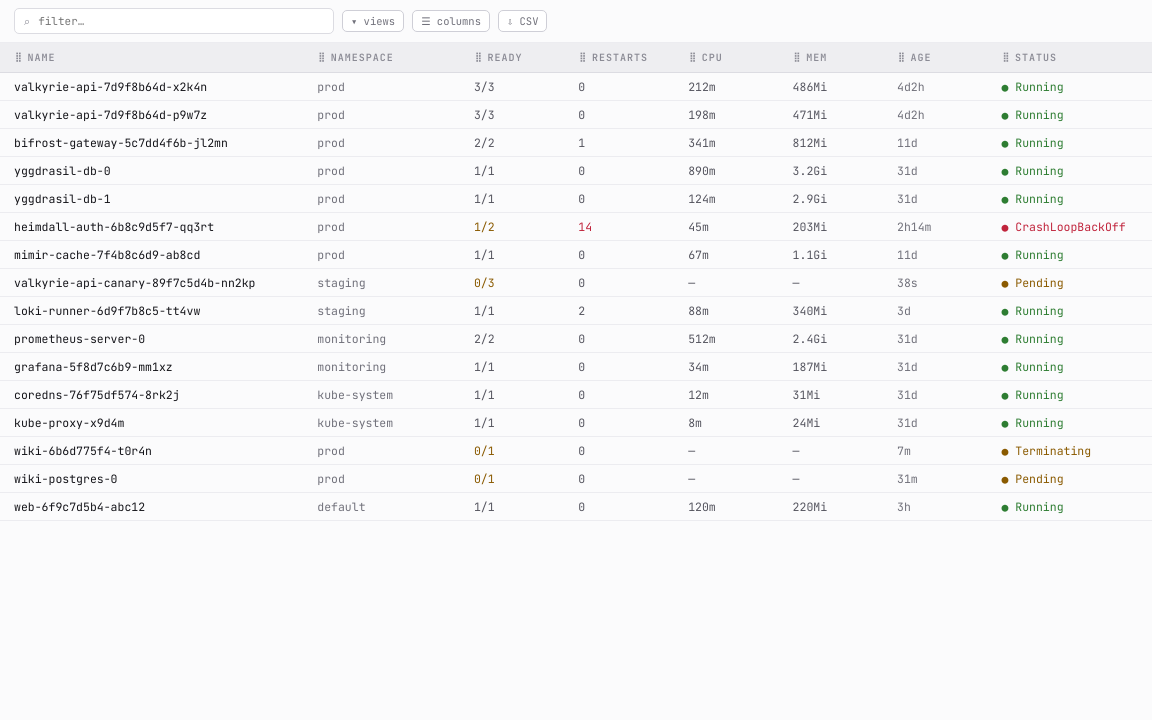
column configuration (B87) › hiding NAMESPACE removes the column; reopening shows it unchecked
The width and height of the screenshot is (1152, 720).
Click the button "☰ columns": point(451, 21) [412,10,490,32]
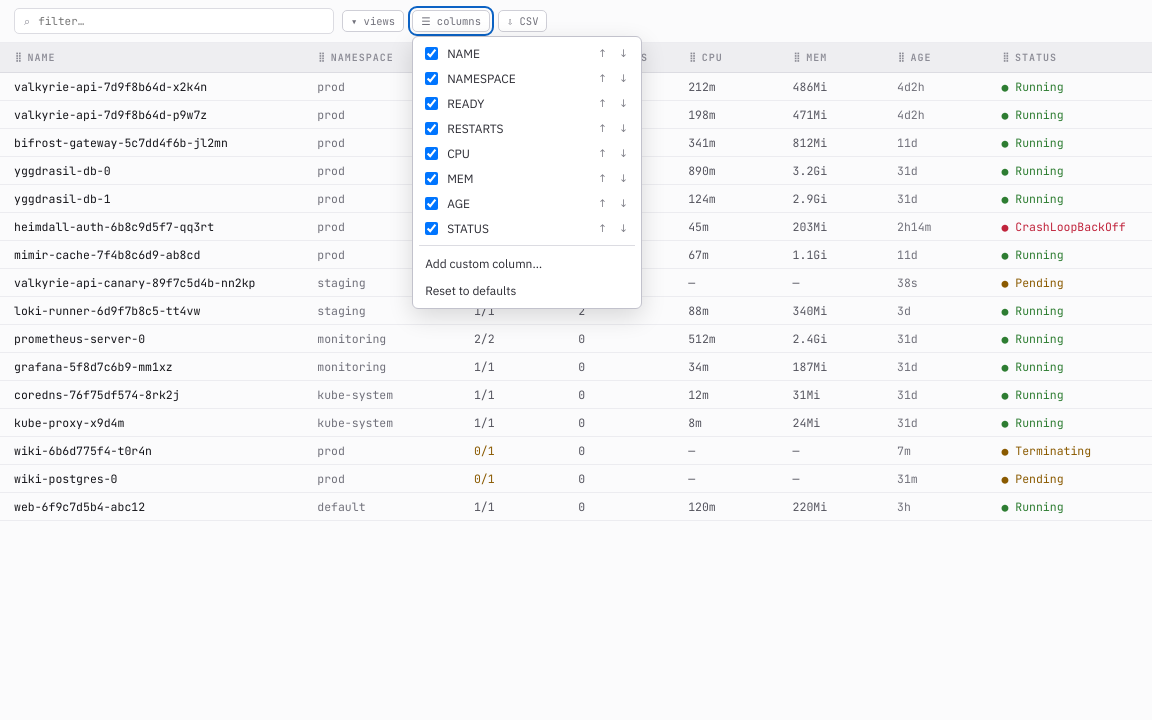
expect the checkbox labelled "NAMESPACE" is checked: met
Click the checkbox labelled "NAMESPACE": point(432, 78) [425,72,438,85]
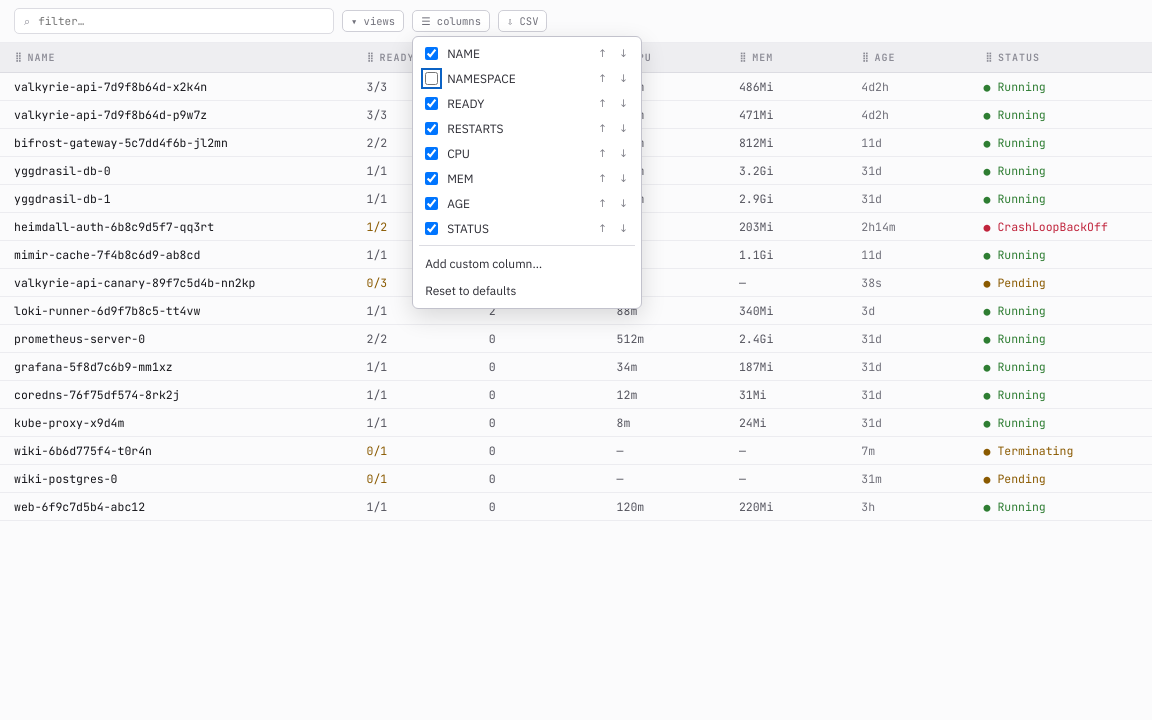
Click the button "☰ columns": point(451, 21) [412,10,490,32]
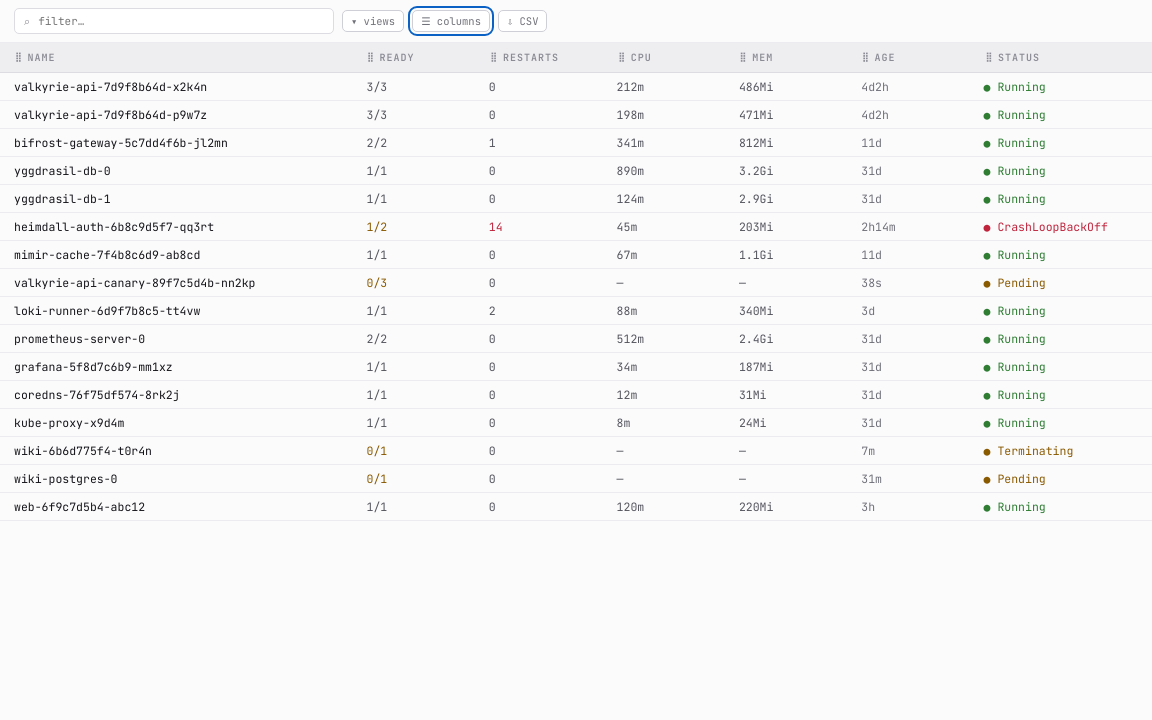
expect the text "NAMESPACE" is gone: met
Click the button "☰ columns": point(451, 21) [412,10,490,32]
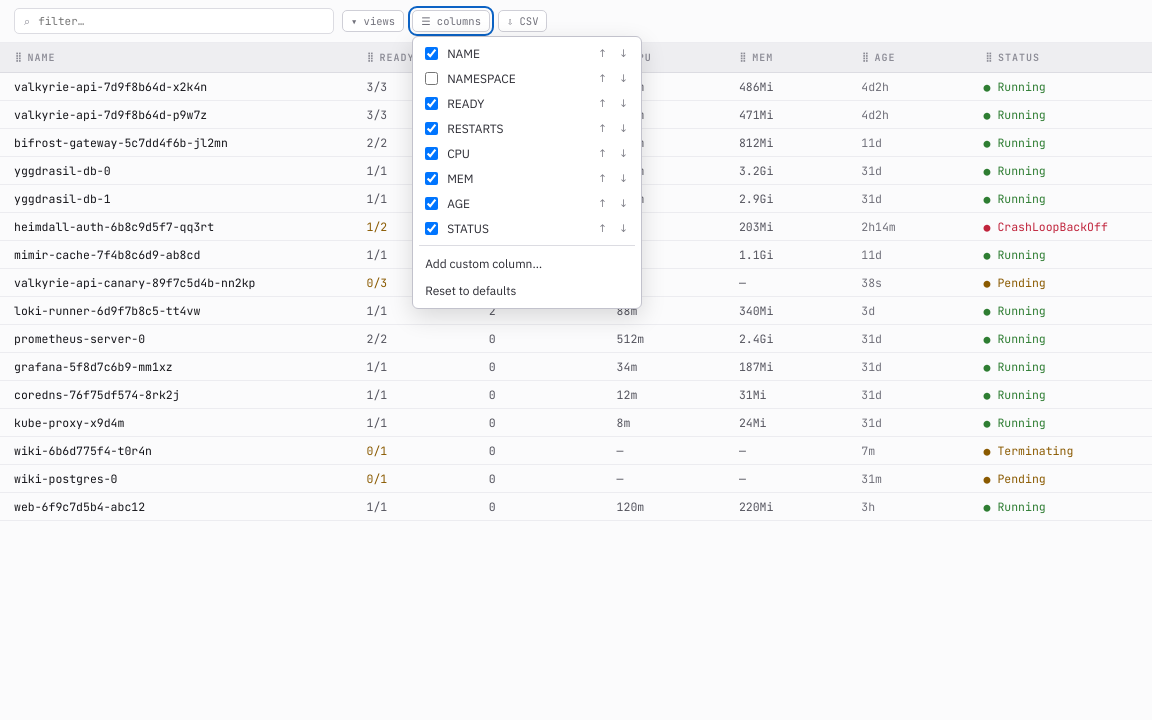
expect the checkbox labelled "NAMESPACE" is not checked: met, box [425,72,438,85]
